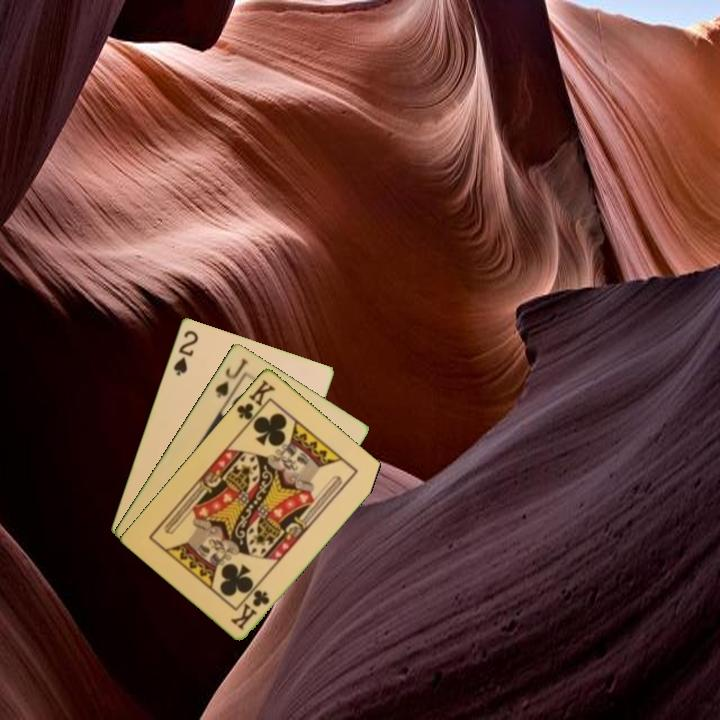2s: (169, 326, 201, 378)
Js: (211, 354, 251, 400)
Kc: (233, 375, 278, 428), (227, 585, 273, 632)
